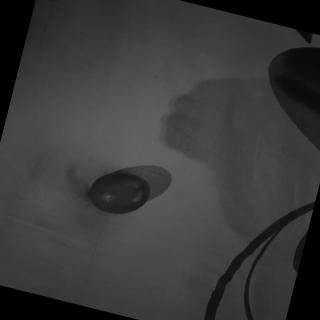Telur: (84, 162, 161, 224)
